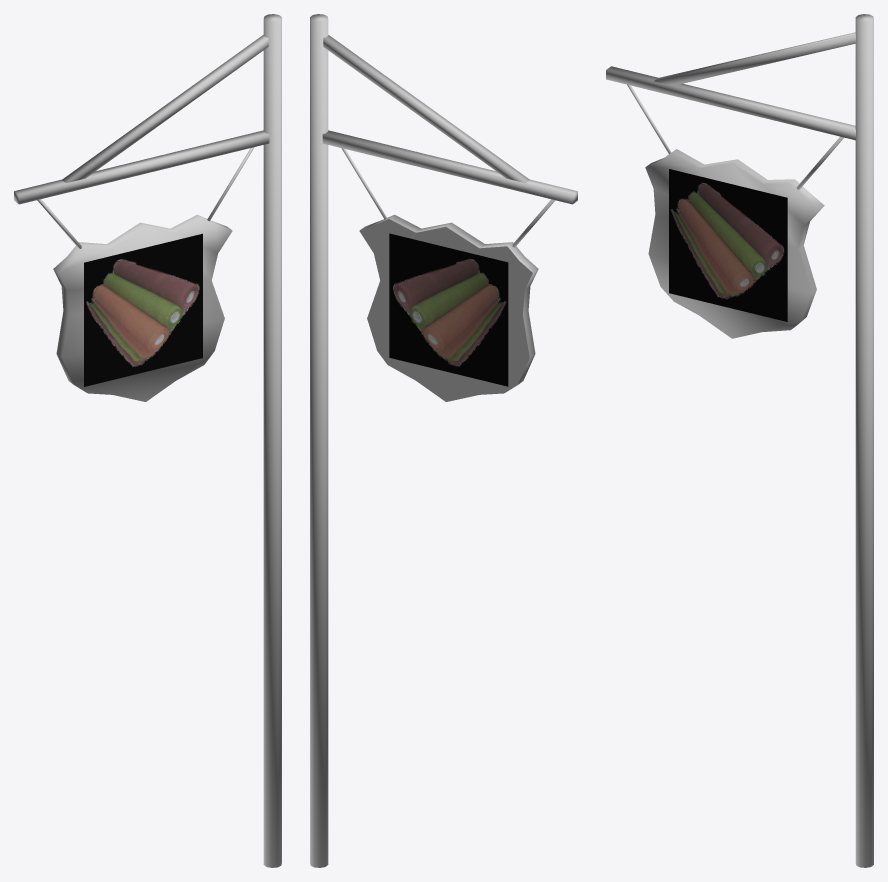
The model's file is sign1.fbx.
3 renders of one model, left to right at view 1: azimuth 30°, elevation 25°; view 2: azimuth 150°, elevation 25°; view 3: azimuth 330°, elevation 25°, orthographic.
Visible parts, largest first — view 1: wood3, sign1, wood2, fabric1; view 2: wood3, sign1, wood2, fabric1; view 3: wood3, sign1, wood2, fabric1.
Boxes of the visible parts, x1,y1,x2,y2 form: wood3: (14,14,281,867); sign1: (84,233,202,386); wood2: (53,214,232,401); fabric1: (37,147,254,249); wood3: (310,14,577,867); sign1: (389,233,508,386); wood2: (359,214,538,401); fabric1: (341,148,555,247); wood3: (606,14,873,867); sign1: (669,169,787,321); wood2: (645,149,824,338); fabric1: (627,84,843,189).
Bounding box in the file's own units: 17.15 × 52.56 × 1.05.
